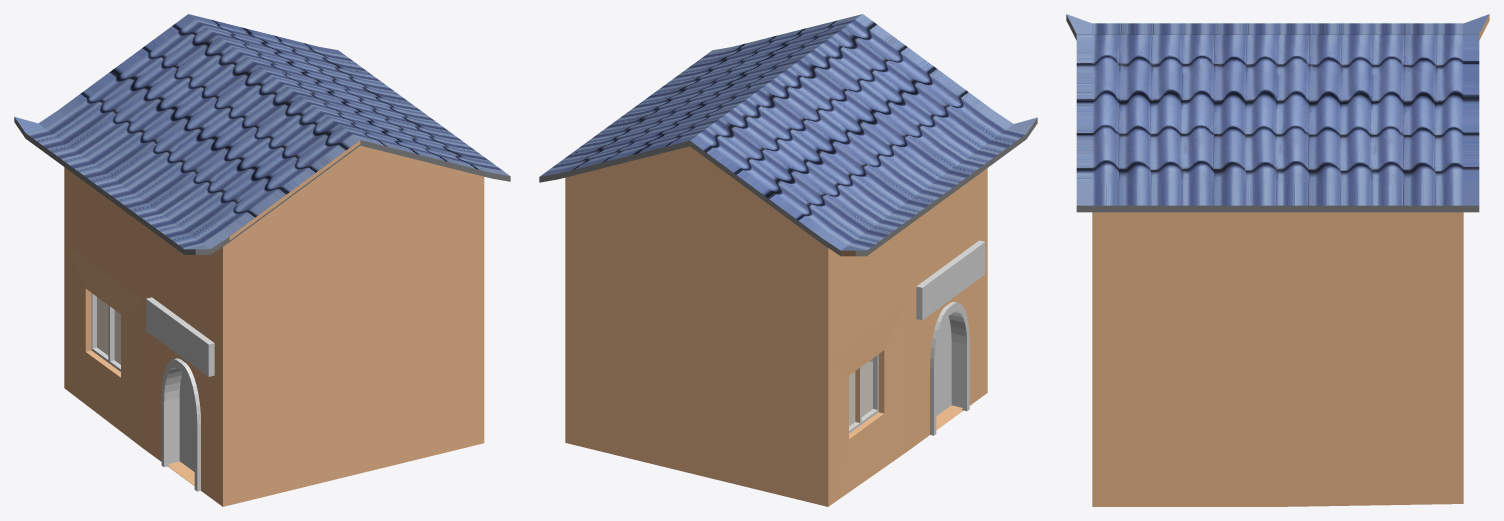
3 renders of one model, left to right at view 1: azimuth 30°, elevation 25°; view 2: azimuth 150°, elevation 25°; view 3: azimuth 270°, elevation 25°, orthographic. The views are drawn at different scales.
Visible parts, largest first — view 1: 平面.001; view 2: 平面.001; view 3: 平面.001.
Part boxes in pixels (<box>): 平面.001: <box>14,14,510,506</box>; 平面.001: <box>539,14,1037,506</box>; 平面.001: <box>1066,14,1489,506</box>.
Bounding box in the file's own units: 4.13 × 4.2 × 4.06.
5 materials, 1 textured.
